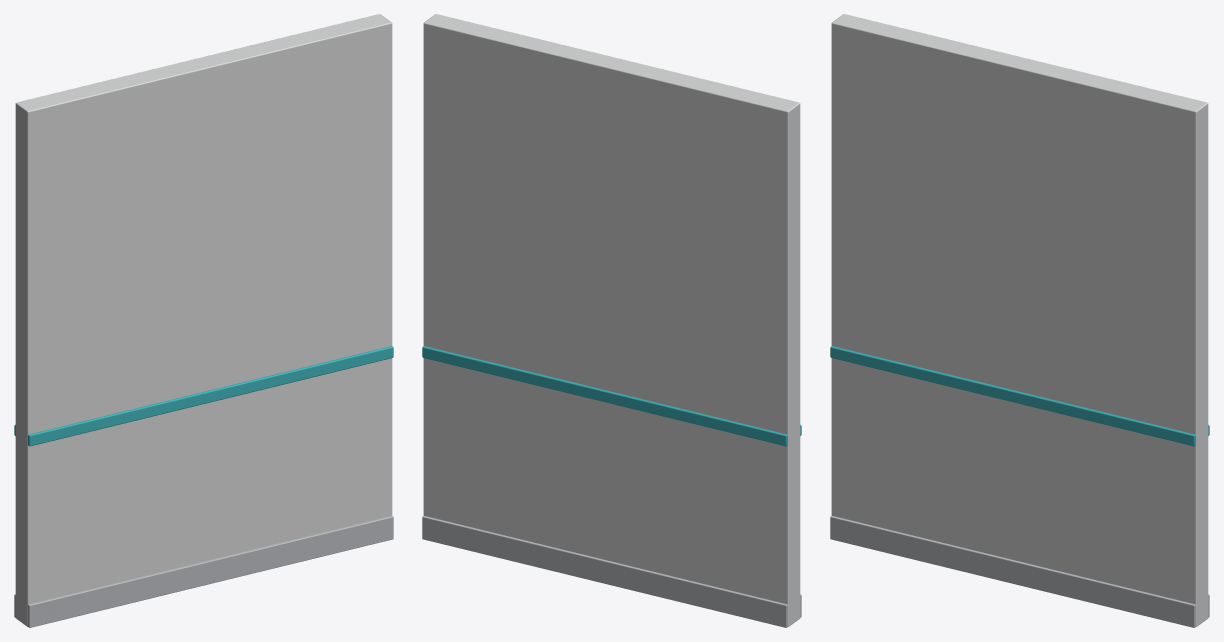
File: corridor-wall-module.glb
3 renders of one model, left to right at view 1: azimuth 30°, elevation 25°; view 2: azimuth 150°, elevation 25°; view 3: azimuth 330°, elevation 25°, orthographic.
Parts seen in each view (by area): view 1: corridor-wall-module; view 2: corridor-wall-module; view 3: corridor-wall-module.
Part boxes in pixels (x1,y1,x2,y2): corridor-wall-module: (14,14,393,627); corridor-wall-module: (422,14,801,627); corridor-wall-module: (830,14,1209,627).
Bounding box in the file's own units: 2 × 2.7 × 0.146.
